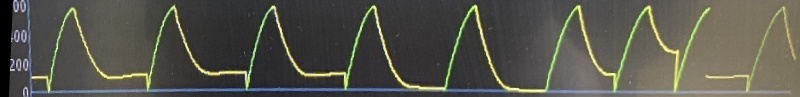leakage: (44, 0, 347, 97), (544, 1, 688, 97)
normal_volume: (356, 0, 542, 97)
